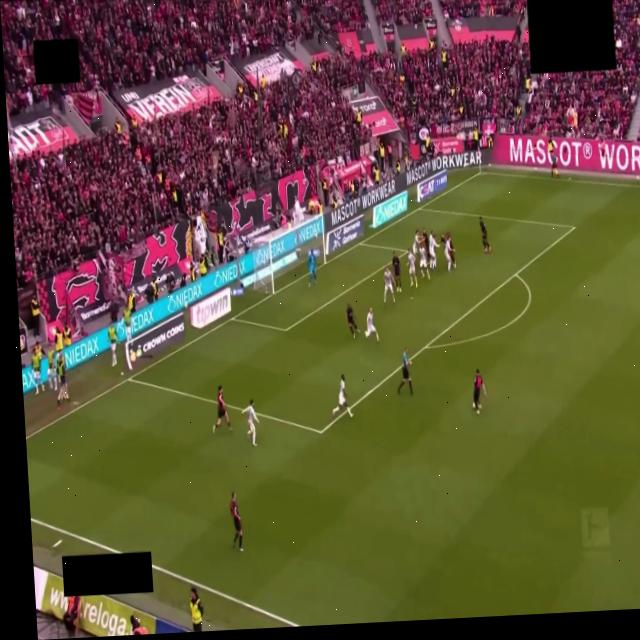player: (213, 386, 232, 433), (333, 375, 353, 417), (230, 492, 243, 551), (243, 399, 258, 445), (472, 369, 486, 415), (479, 216, 492, 253), (443, 234, 455, 272), (383, 269, 395, 306), (392, 251, 402, 294), (419, 242, 430, 279), (346, 303, 357, 338), (366, 309, 378, 341), (429, 231, 439, 269), (407, 252, 417, 287), (308, 249, 316, 287), (422, 230, 430, 266), (447, 233, 455, 267), (412, 231, 421, 255)
referee: (398, 348, 413, 395)
